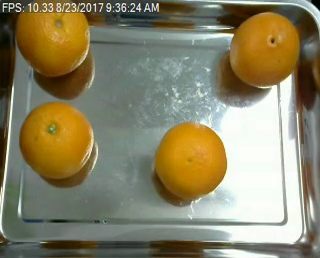Orange: (19, 101, 94, 181), (153, 121, 227, 200), (14, 1, 89, 78), (228, 11, 299, 87)
